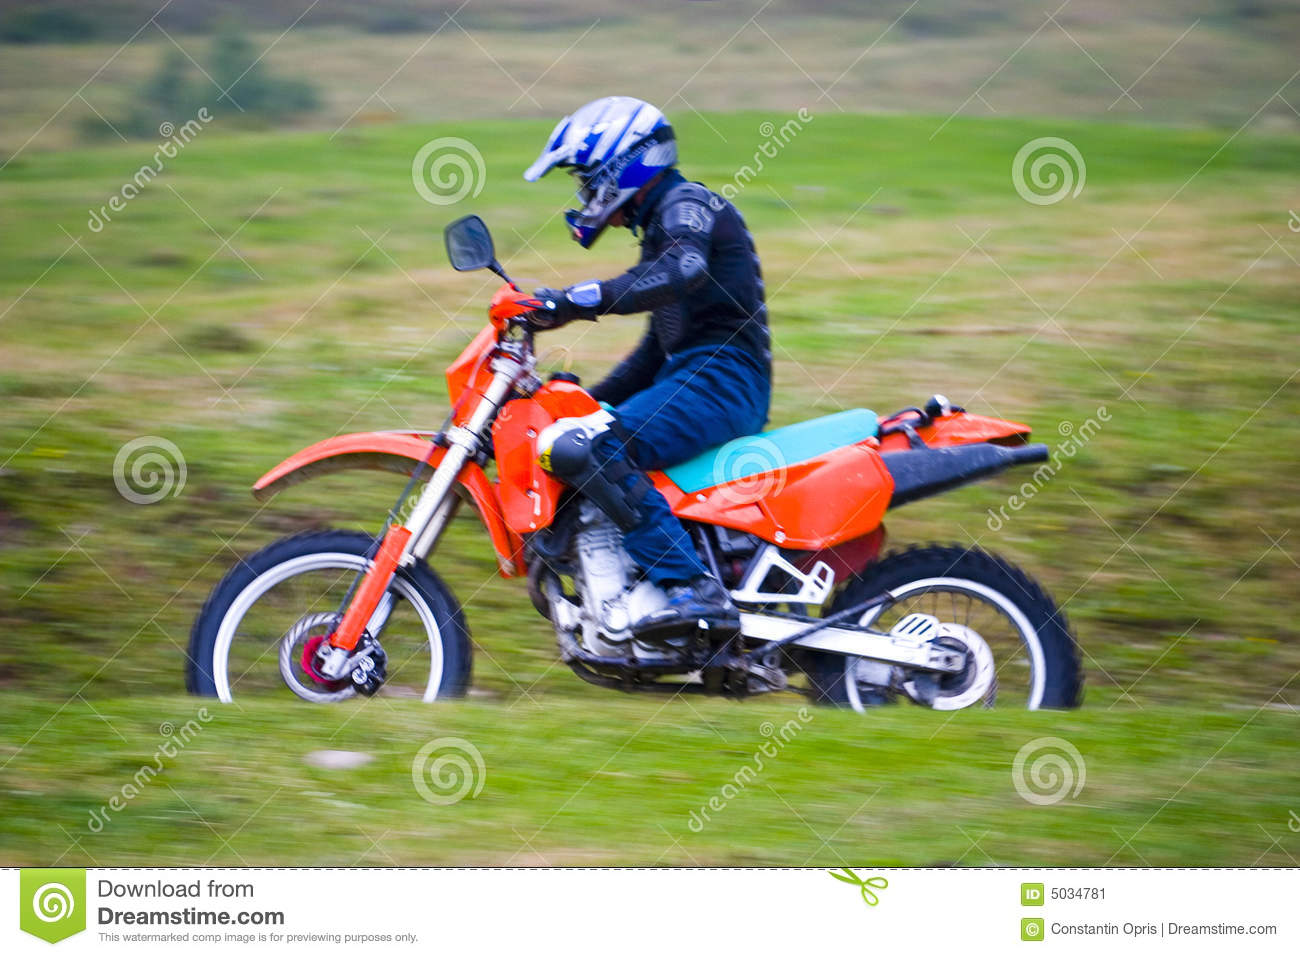helmet: (540, 86, 685, 221)
